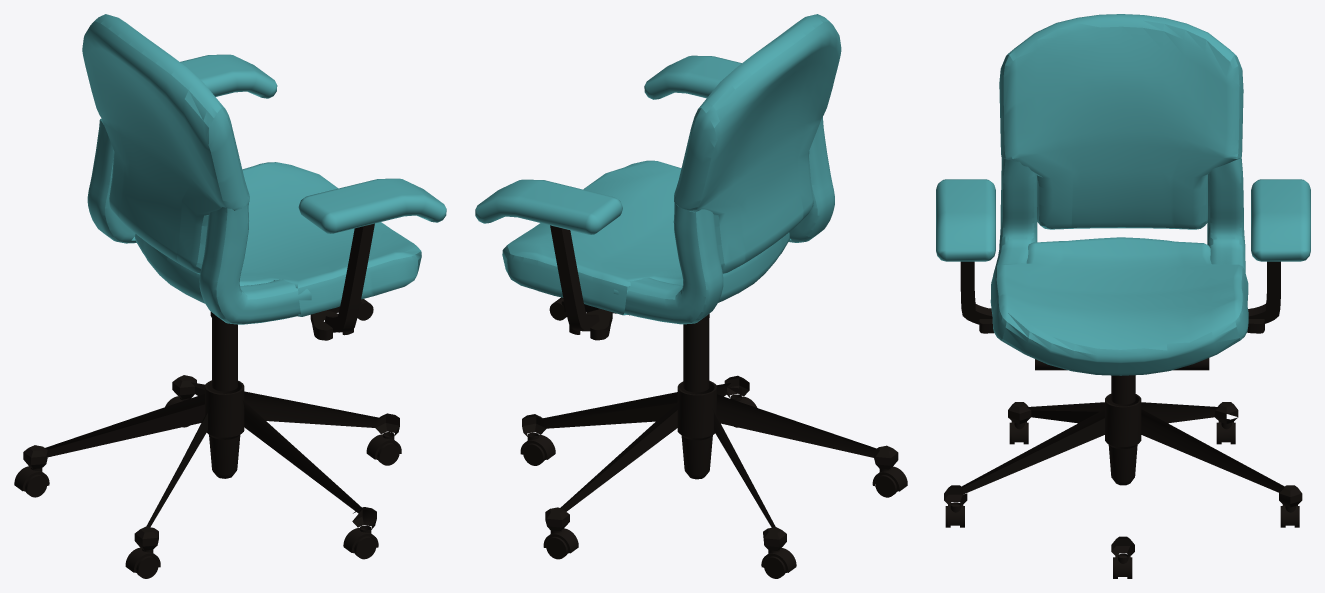
Rendered from HMI_Equa2_Work_Chair_3D.fbx.
The picture shows the model from 3 angles, left to right: view 1: azimuth 30°, elevation 25°; view 2: azimuth 150°, elevation 25°; view 3: azimuth 270°, elevation 25°; orthographic projection. The views are drawn at different scales.
Visible parts, largest first — view 1: HSeat, HBase, HArmPads; view 2: HSeat, HBase, HArmPads; view 3: HSeat, HBase, HArmPads.
Boxes of the visible parts, left/top/right/bottom form: HSeat: left=82, top=14, right=421, bottom=324; HBase: left=14, top=223, right=401, bottom=578; HArmPads: left=180, top=54, right=446, bottom=233; HSeat: left=502, top=14, right=841, bottom=324; HBase: left=520, top=225, right=907, bottom=578; HArmPads: left=475, top=55, right=741, bottom=234; HSeat: left=990, top=14, right=1248, bottom=375; HBase: left=944, top=261, right=1302, bottom=578; HArmPads: left=936, top=179, right=1310, bottom=261.
Size of the model in its own units: 63.19 by 89.85 by 67.63.
